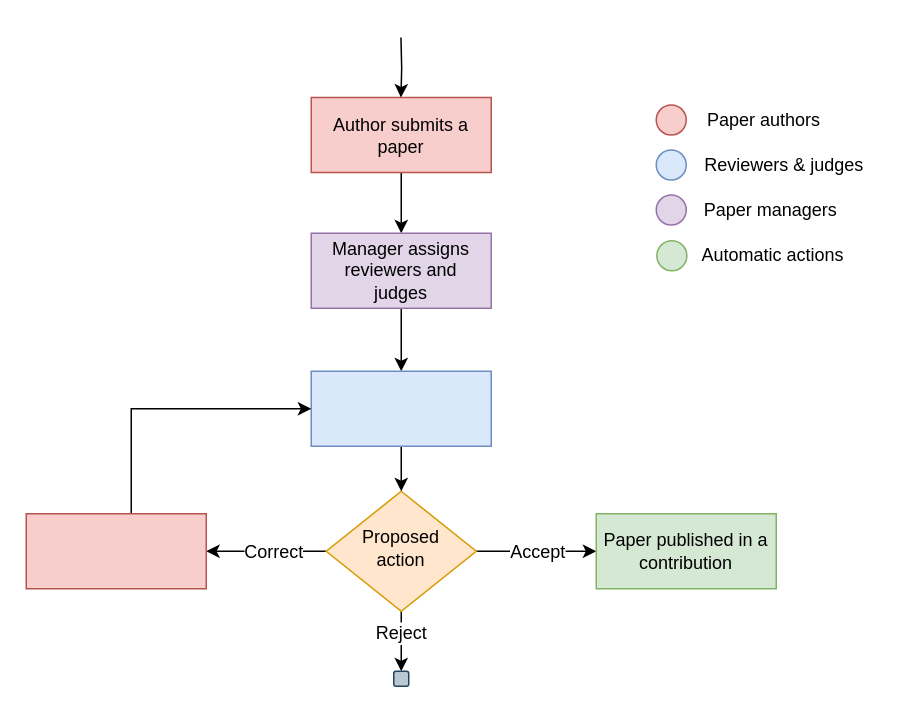
Some shapes in this 920 by 713 pixel diagram are drawn without their labels. The shapes that lost their labels are listed below. From the top down, each one's centre as x and y in pixels, then its label:
At point 400,408: "Reviewing process".
At point 115,550: "Author submits a new revision".
